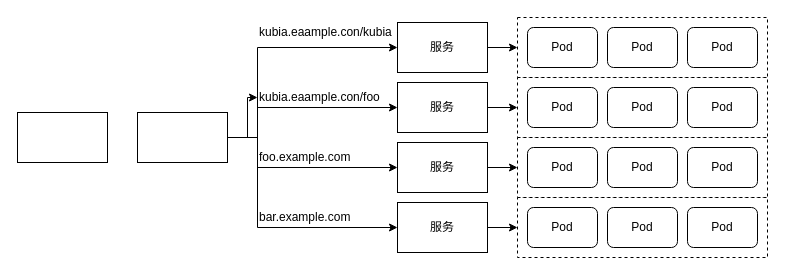
Image size: 785x275. Some labels were removed from this diagram. Each missing label, with the box of its shape:
Ingress: (136, 112, 228, 162)
客户端: (16, 112, 108, 162)
